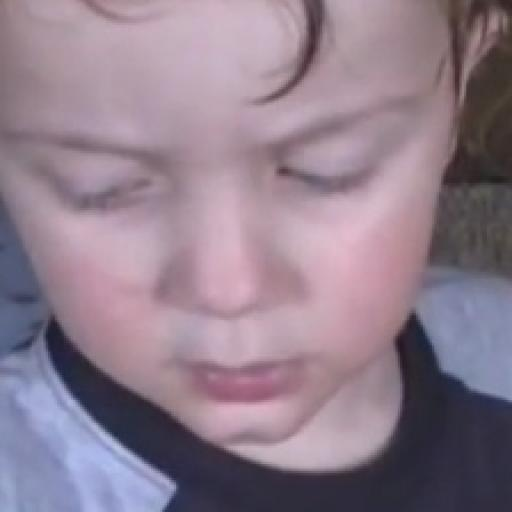Autism: (14, 13, 470, 463)
